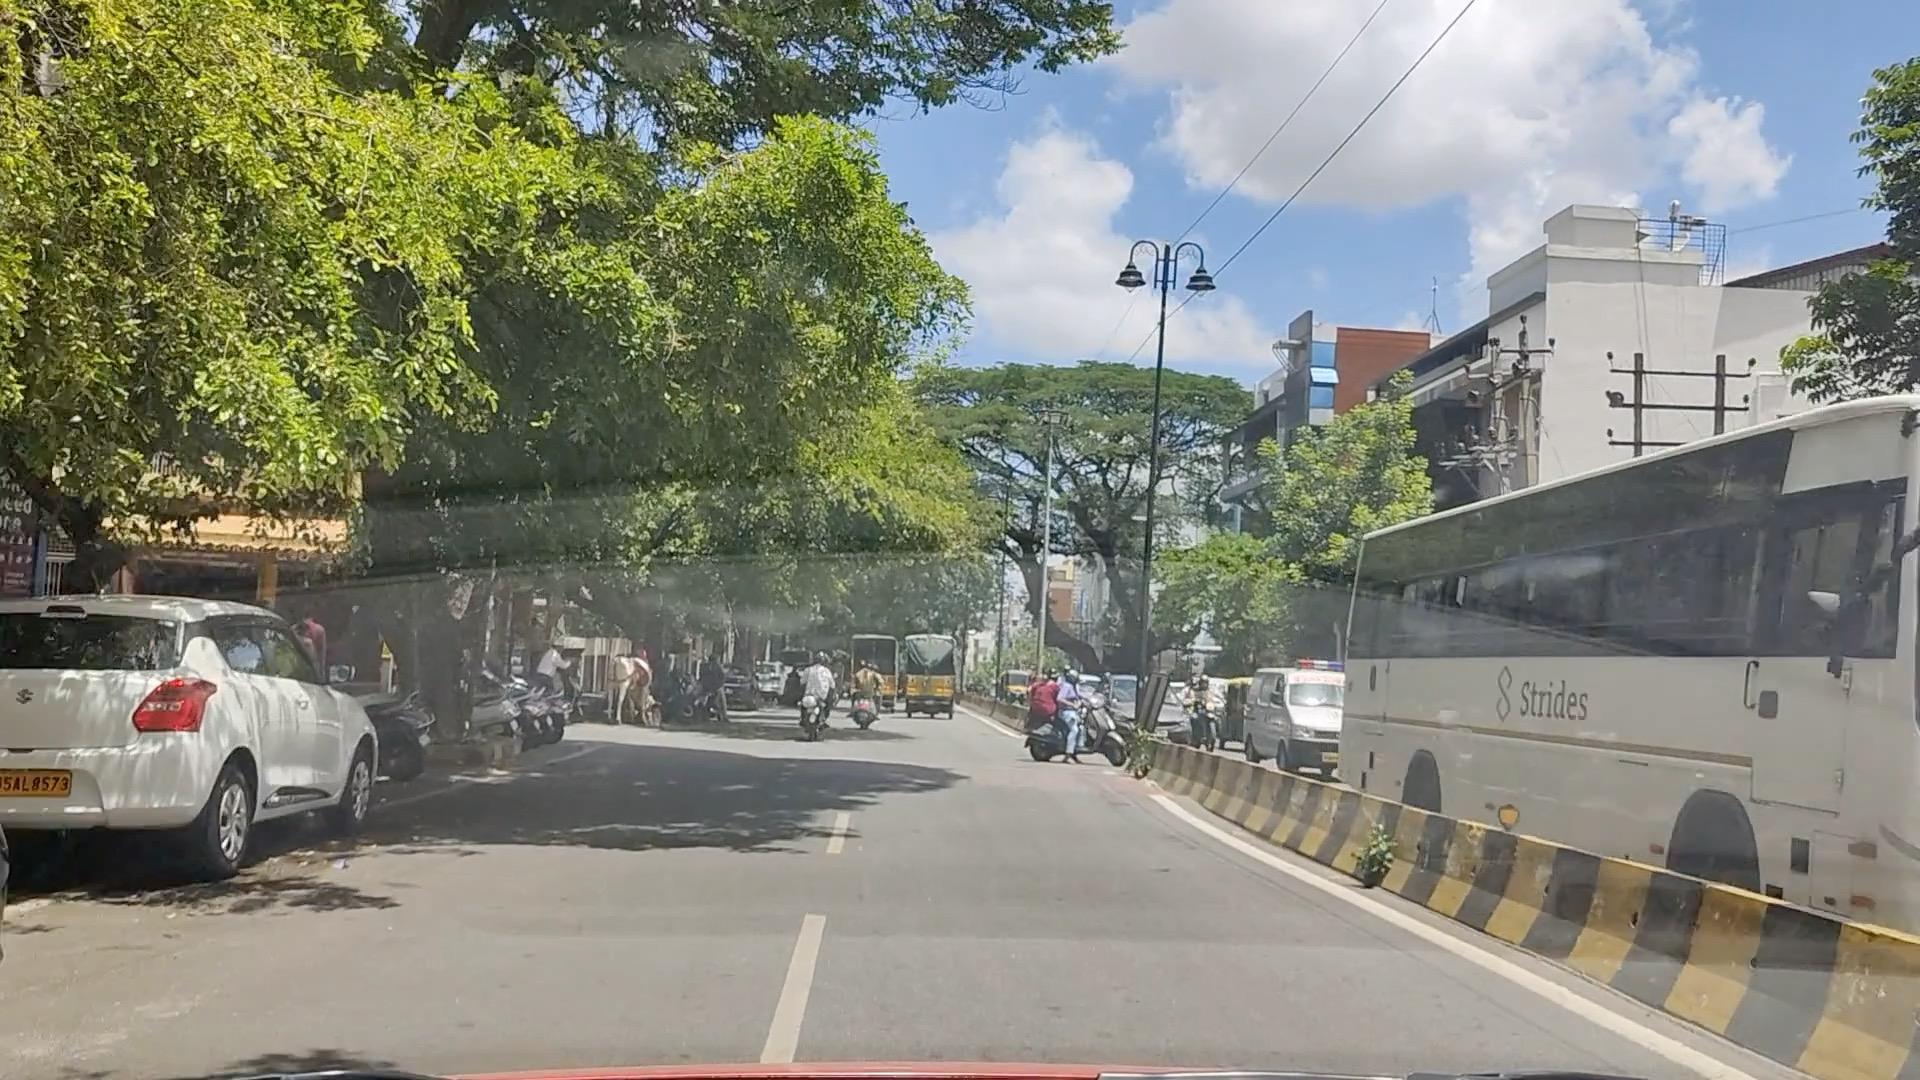LMV: (1017, 667, 1137, 787), (783, 640, 837, 766), (852, 653, 886, 728)
